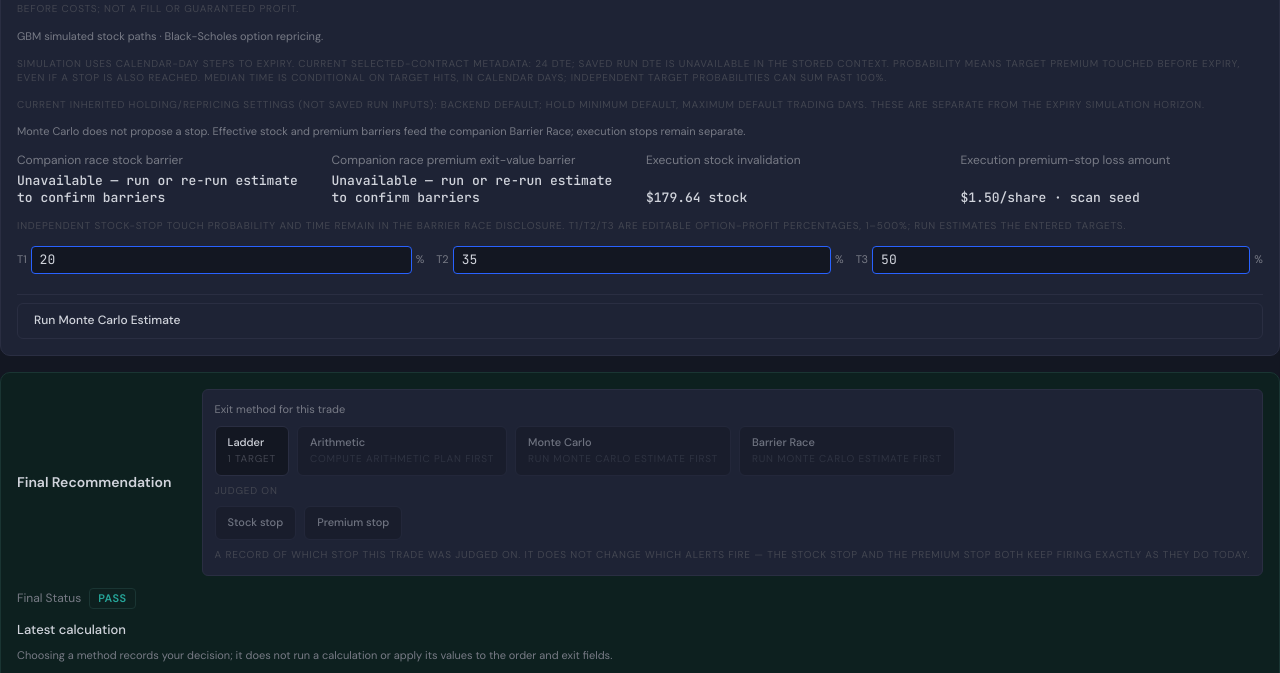
it: TC-UI-02 selected recommendation › race dollar outcome follows edited entered quantity without another simulation or changing per-contract edge
(page scrolled)
Click the button "Run Monte Carlo Estimate".
click(107, 320)  # box [17,303,1263,339]
(page scrolled)
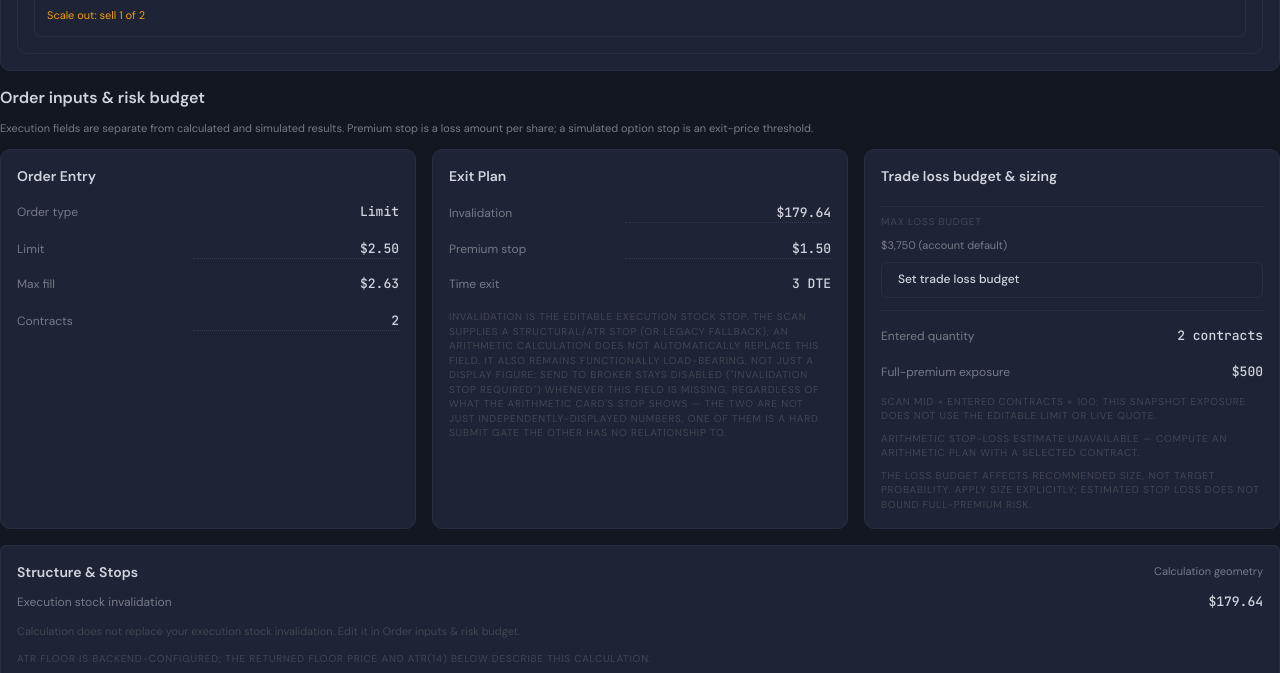
Click the button named "Edit Contracts".
click(296, 320)  # box [193,309,399,331]
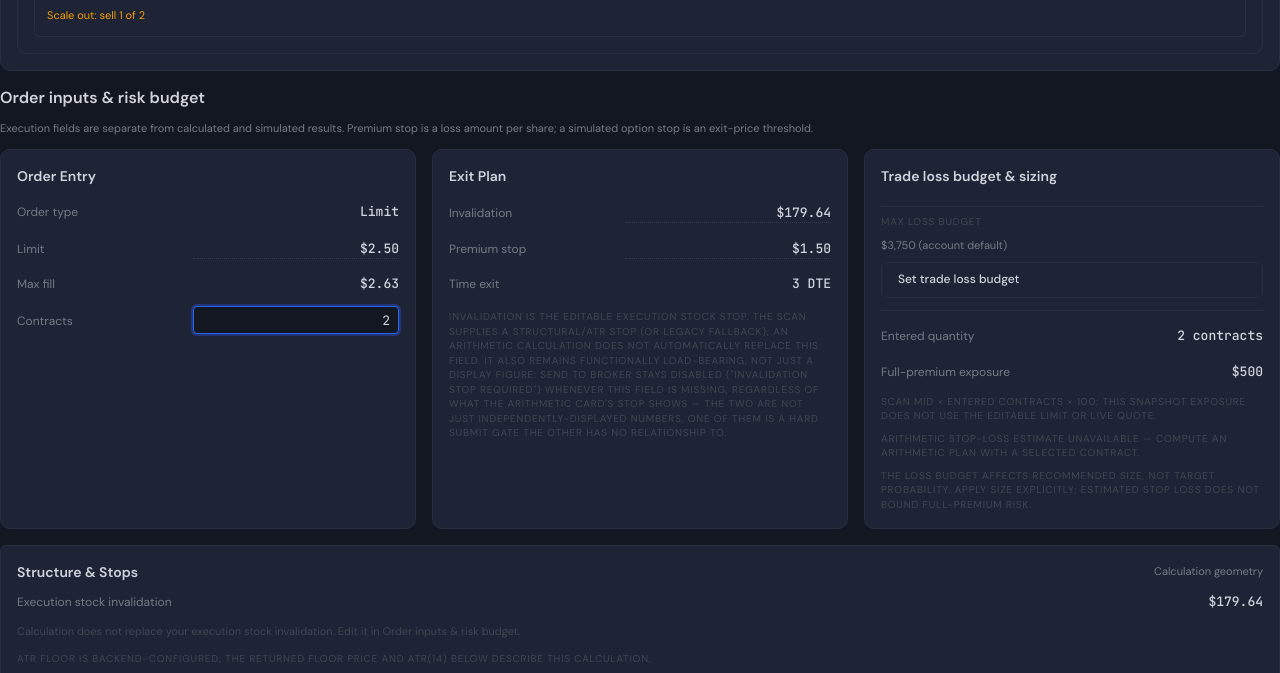
Replace the text in the field named "Edit Contracts" with "3" at (296,320), box [193,306,399,334]
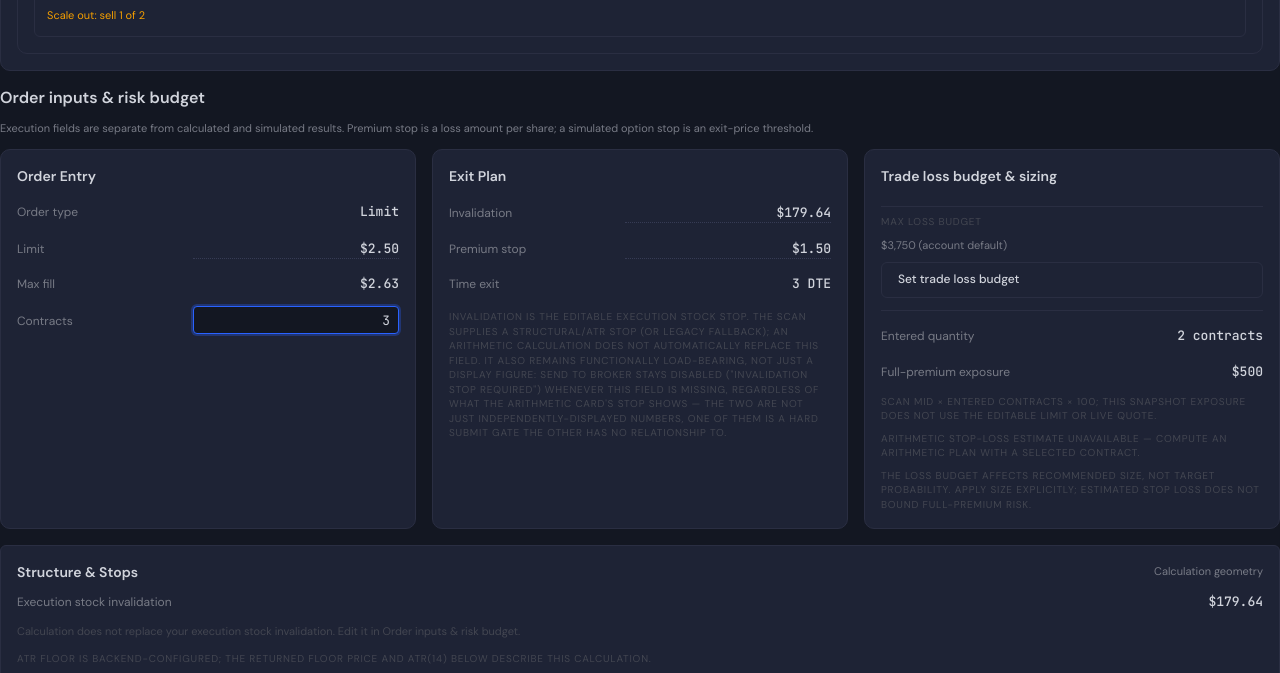
Leave the field named "Edit Contracts", box [193,306,399,334]
(page scrolled)
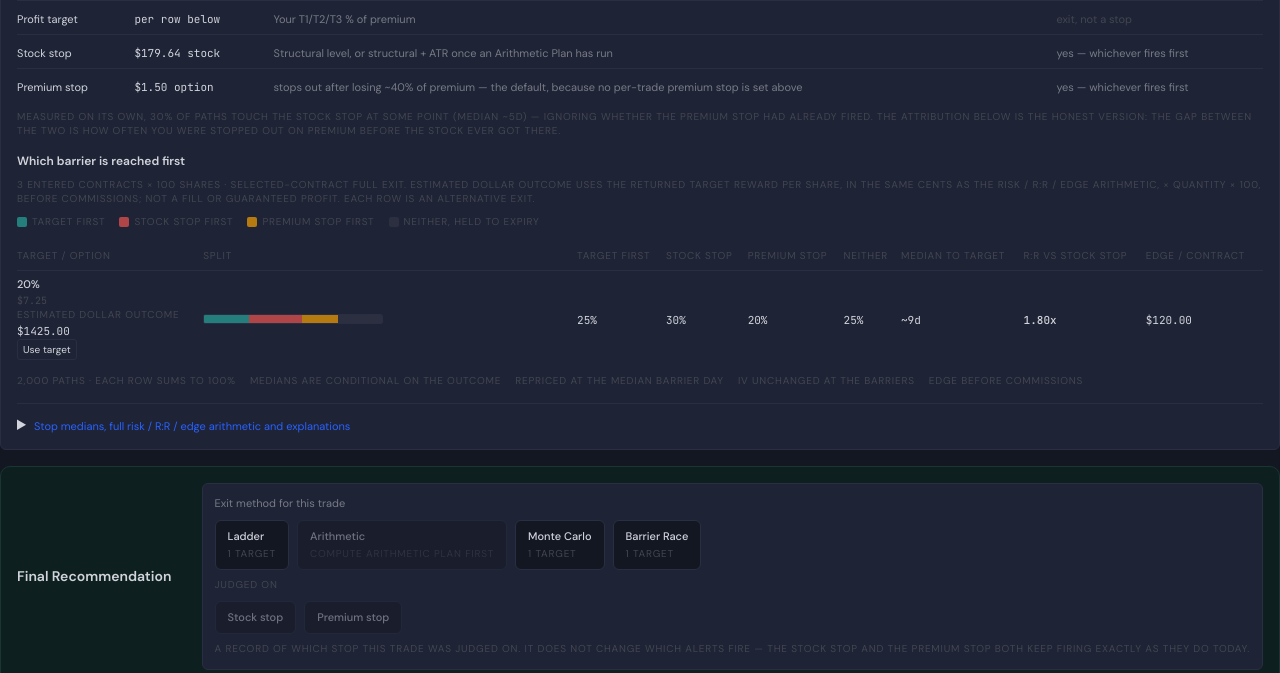
Result: the text "$120.00" is shown at [1146,313,1192,327]
Result: the text "$1425.00" is shown at [17,324,70,338]
